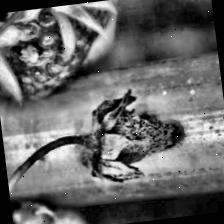Gray Mold: (58, 82, 188, 189)
